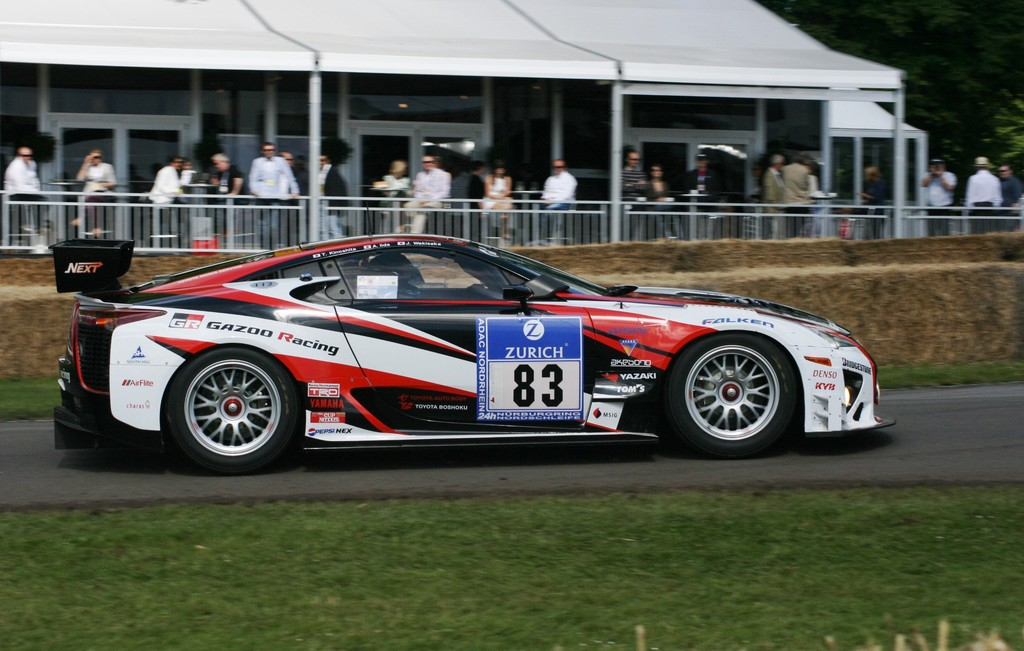Car: (46, 204, 894, 477)
